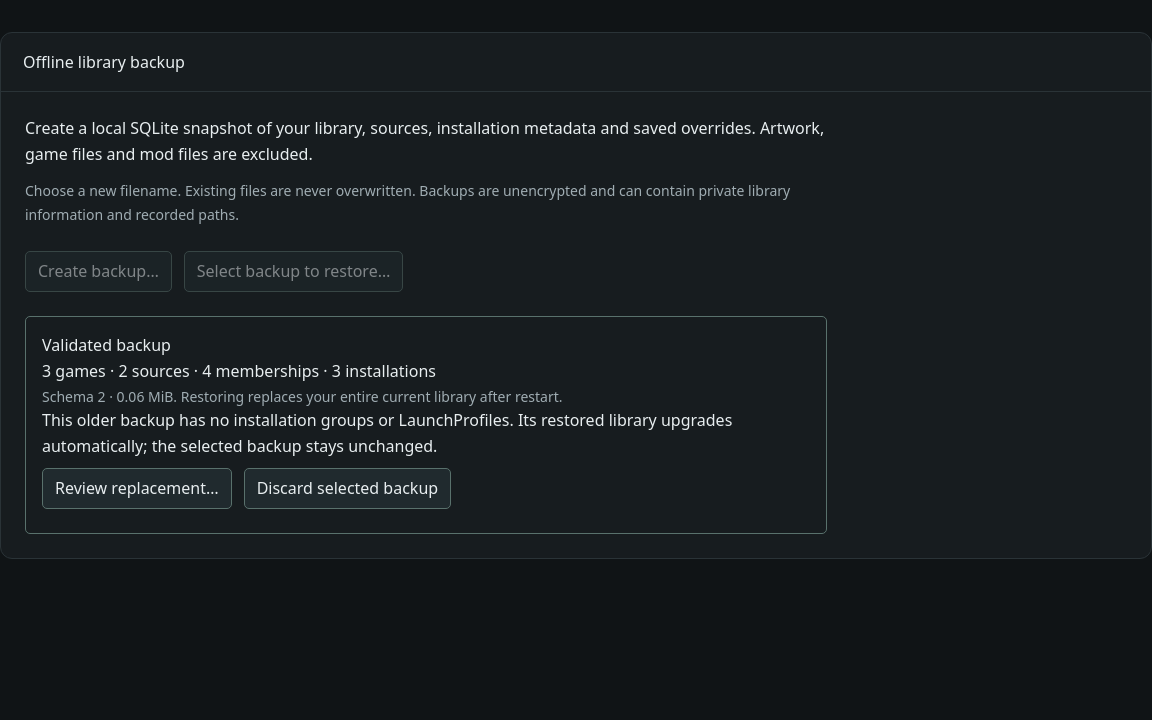
Test case: preserves explicit recovery guidance after preparation failure
Step 1. Click the button "Review replacement…" → point(137, 488), box top-left (42, 468), bottom-right (232, 509)
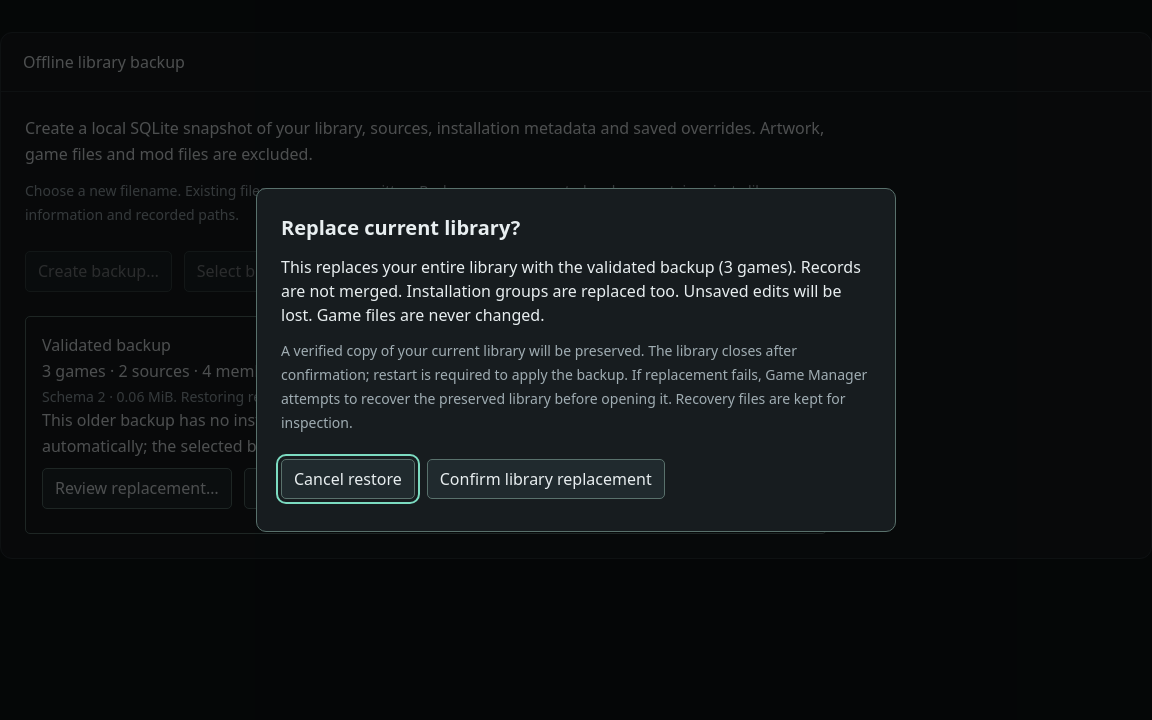
Step 2. Click the button "Confirm library replacement" → point(546, 479), box top-left (427, 459), bottom-right (665, 499)
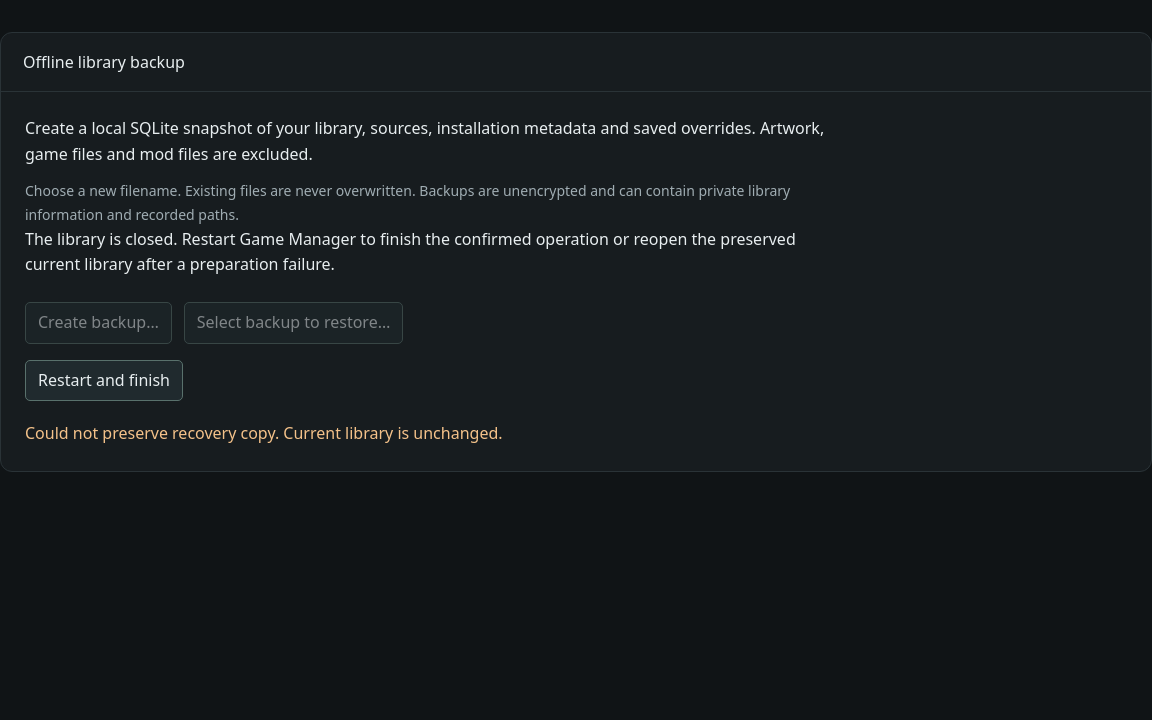
Check: the message "Could not preserve recovery copy. Current library is unchanged." is shown, box top-left (25, 422), bottom-right (502, 444)
Check: the button "Restart and finish" is shown, box top-left (25, 360), bottom-right (183, 401)
